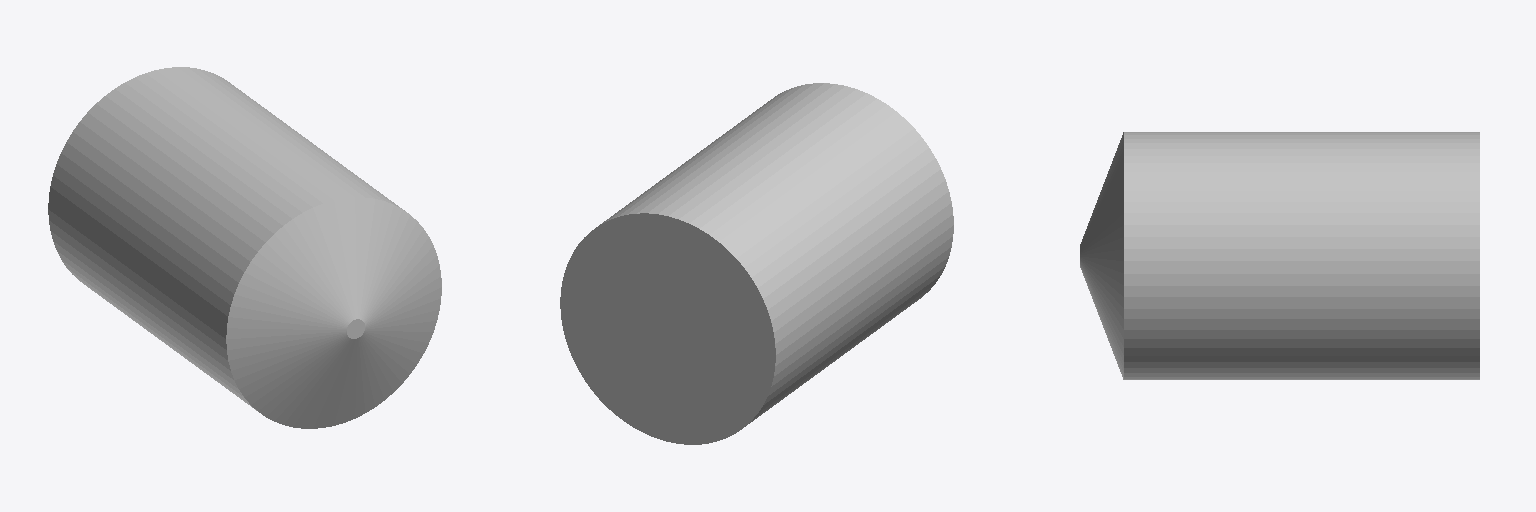
Rendered from Candle2.obj.
3 views of the same model, side by side, from view 1: azimuth 30°, elevation 25°; view 2: azimuth 150°, elevation 25°; view 3: azimuth 270°, elevation 25° (orthographic).
Visible parts, largest first — view 1: Candle2_Cylinder.002; view 2: Candle2_Cylinder.002; view 3: Candle2_Cylinder.002.
Boxes of the visible parts, x1,y1,x2,y2 form: Candle2_Cylinder.002: [48, 67, 441, 428]; Candle2_Cylinder.002: [560, 83, 953, 444]; Candle2_Cylinder.002: [1080, 132, 1479, 379].
Bounding box in the file's own units: 0.1002 × 0.1002 × 0.1609.